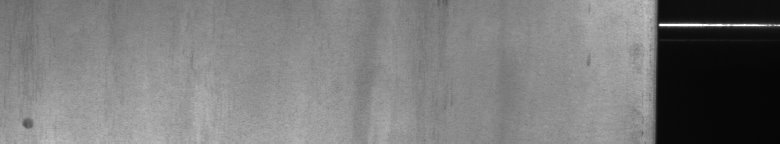fi: (16, 112, 36, 135)
